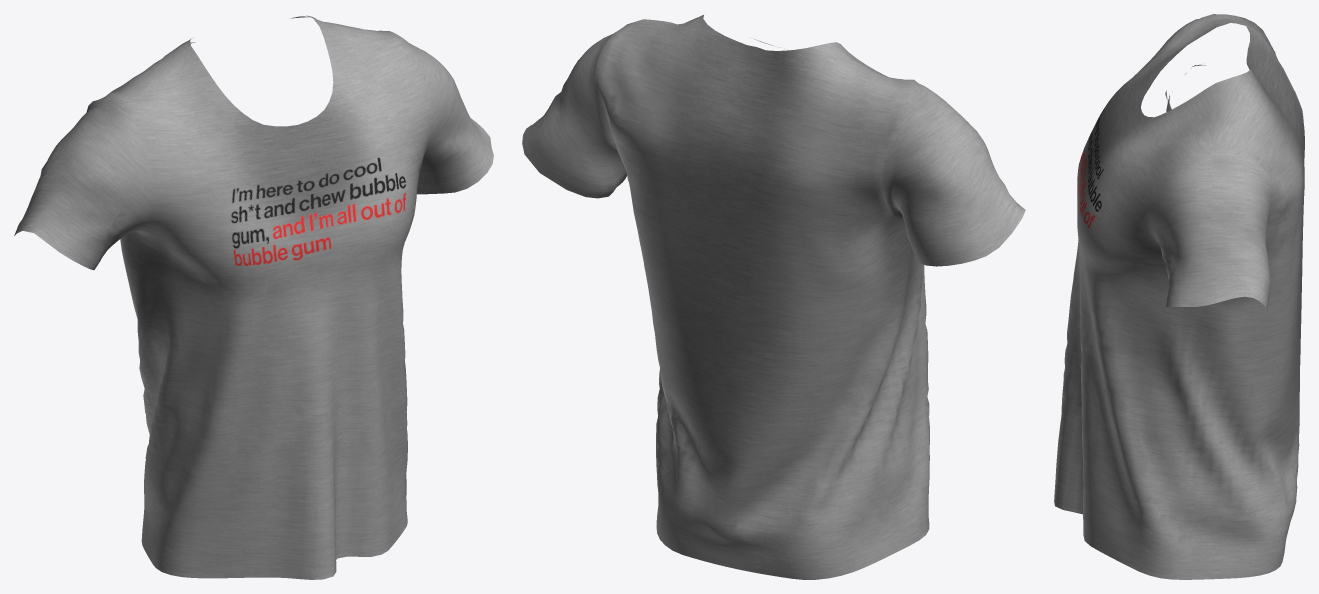
The model's file is shirt.glb.
The picture shows the model from 3 angles, left to right: view 1: azimuth 30°, elevation 25°; view 2: azimuth 150°, elevation 25°; view 3: azimuth 270°, elevation 25°; orthographic projection. The views are drawn at different scales.
Parts seen in each view (by area): view 1: TShirt; view 2: TShirt; view 3: TShirt.
Boxes of the visible parts, box(x1,y1,x2,y2) form: TShirt: box(14, 15, 493, 579); TShirt: box(522, 15, 1025, 579); TShirt: box(1054, 14, 1304, 579).
Bounding box in the file's own units: 65.65 × 68.07 × 31.59.
Materials: 1 (1 with a texture image).
